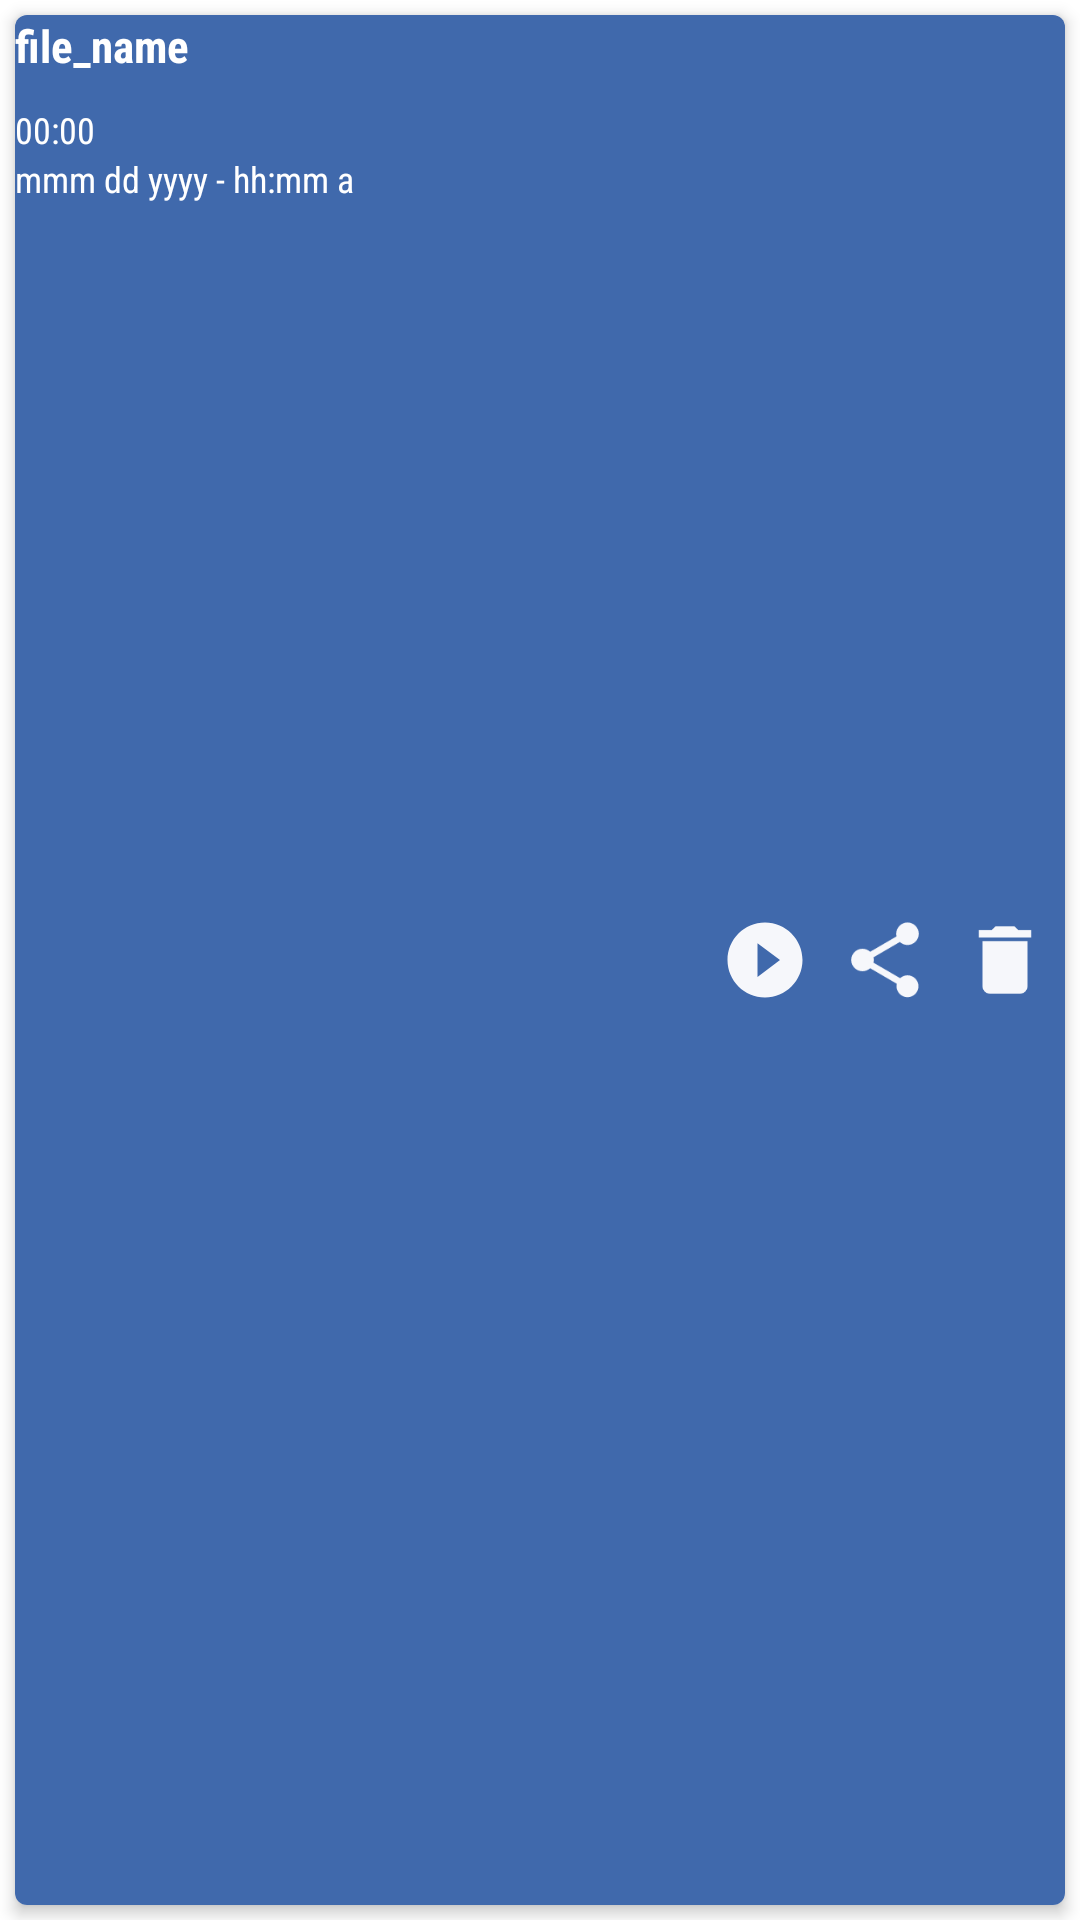

Icons on this 1080w x 1920h Android screen, each with the point to tap as [x,y]:
deletev: [1005,960]
playv: [765,960]
sharev: [885,960]
